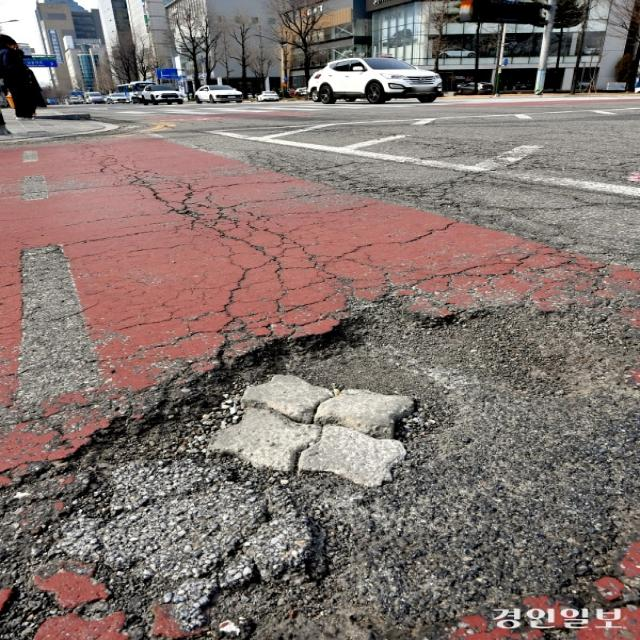pothole: (21, 272, 640, 640)
